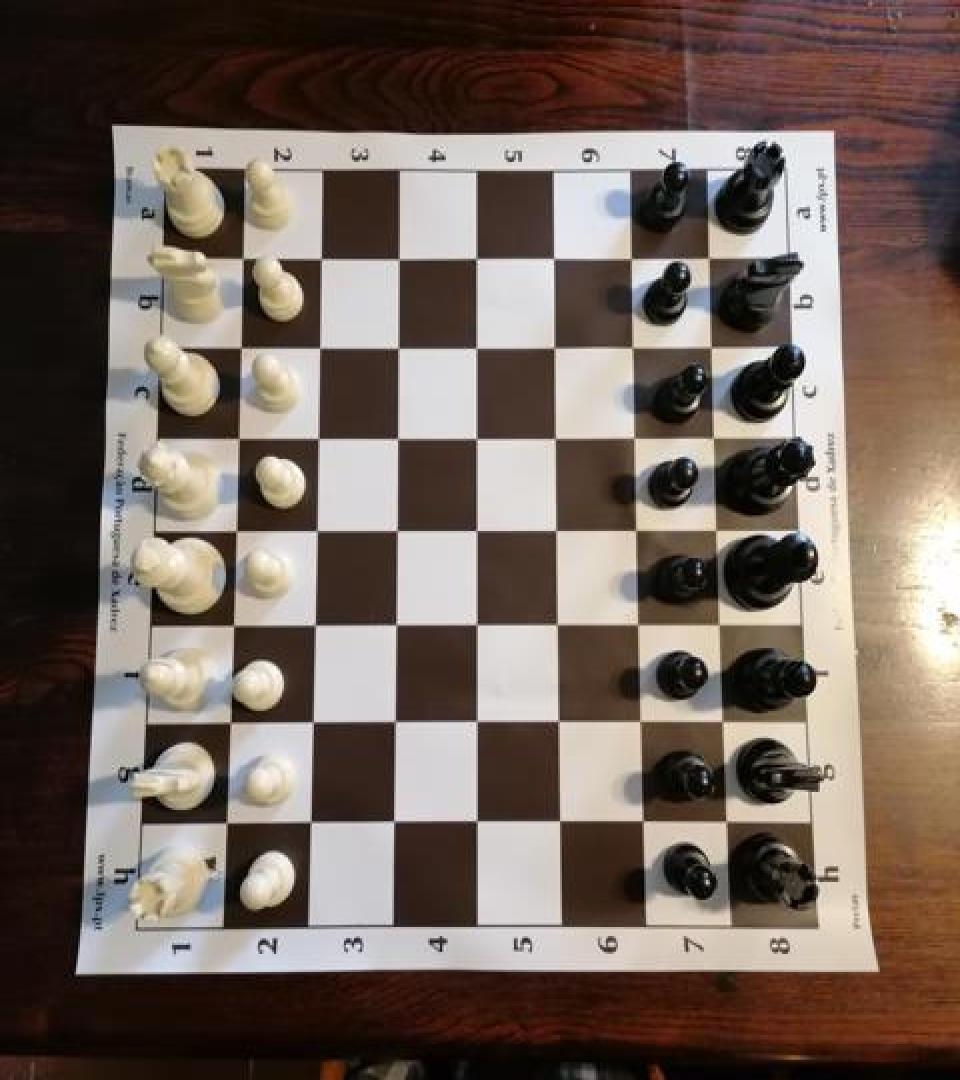xcorner: (697, 244, 725, 276), (618, 244, 646, 276), (539, 244, 567, 276), (461, 244, 489, 276), (382, 244, 410, 276), (304, 244, 332, 276), (226, 244, 254, 276), (699, 333, 727, 365), (620, 333, 648, 365), (540, 333, 568, 365), (461, 333, 489, 365), (382, 333, 410, 365), (302, 333, 330, 365), (223, 333, 251, 365), (702, 424, 730, 456), (622, 424, 650, 456), (541, 424, 569, 456), (461, 424, 489, 456), (381, 424, 409, 456), (301, 424, 329, 456), (221, 424, 249, 456), (705, 517, 733, 549), (624, 517, 652, 549), (542, 517, 570, 549), (461, 517, 489, 549), (380, 517, 408, 549), (299, 517, 327, 549), (218, 516, 246, 548), (708, 613, 736, 645), (626, 613, 654, 645), (543, 613, 571, 645), (461, 613, 489, 645), (379, 612, 407, 644), (297, 612, 325, 644), (215, 612, 243, 644), (711, 711, 739, 743), (628, 711, 656, 743), (714, 811, 742, 843), (630, 810, 658, 842), (546, 810, 574, 842), (462, 810, 490, 842), (378, 810, 406, 842), (294, 810, 322, 842), (545, 710, 573, 741), (461, 710, 489, 741), (378, 710, 406, 741), (295, 710, 323, 741), (213, 710, 241, 741), (210, 809, 238, 840)
